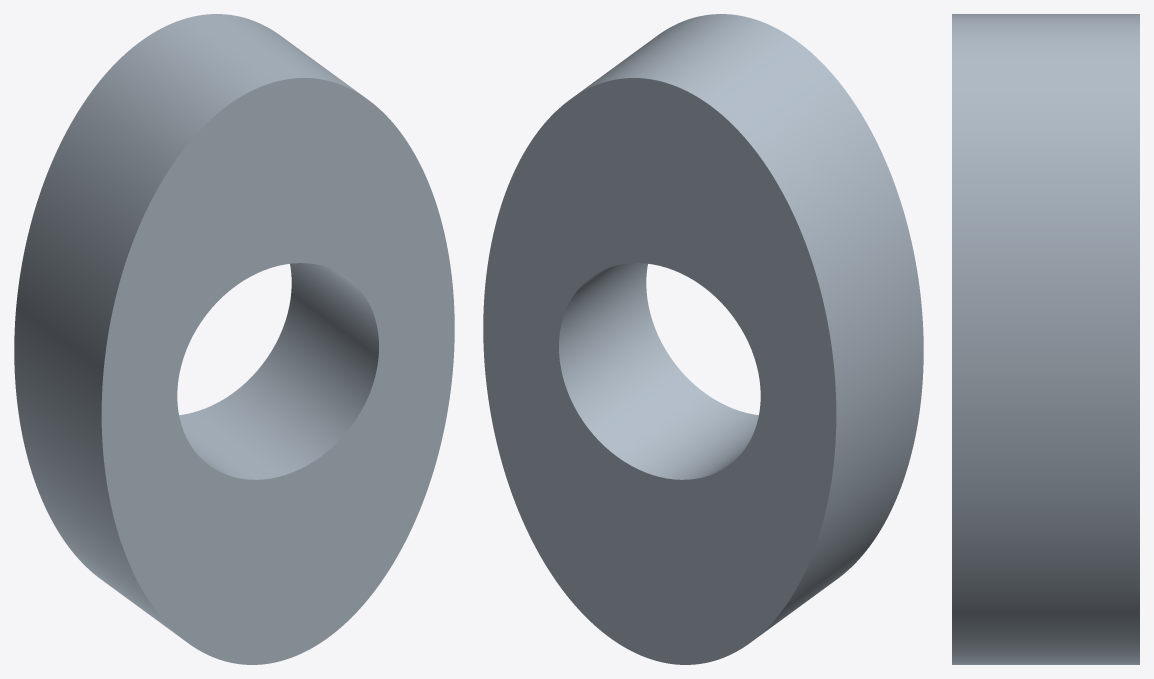
Rendered from inner_prop.obj.
3 renders of one model, left to right at view 1: azimuth 30°, elevation 25°; view 2: azimuth 150°, elevation 25°; view 3: azimuth 270°, elevation 25°, orthographic. The views are drawn at different scales.
Visible parts, largest first — view 1: 1; view 2: 1; view 3: 1.
Part boxes in pixels (bbox=[...]): 1: bbox=[14, 14, 454, 664]; 1: bbox=[483, 14, 923, 664]; 1: bbox=[952, 14, 1139, 664].
Size of the model in its own units: 35 by 55 by 15.
